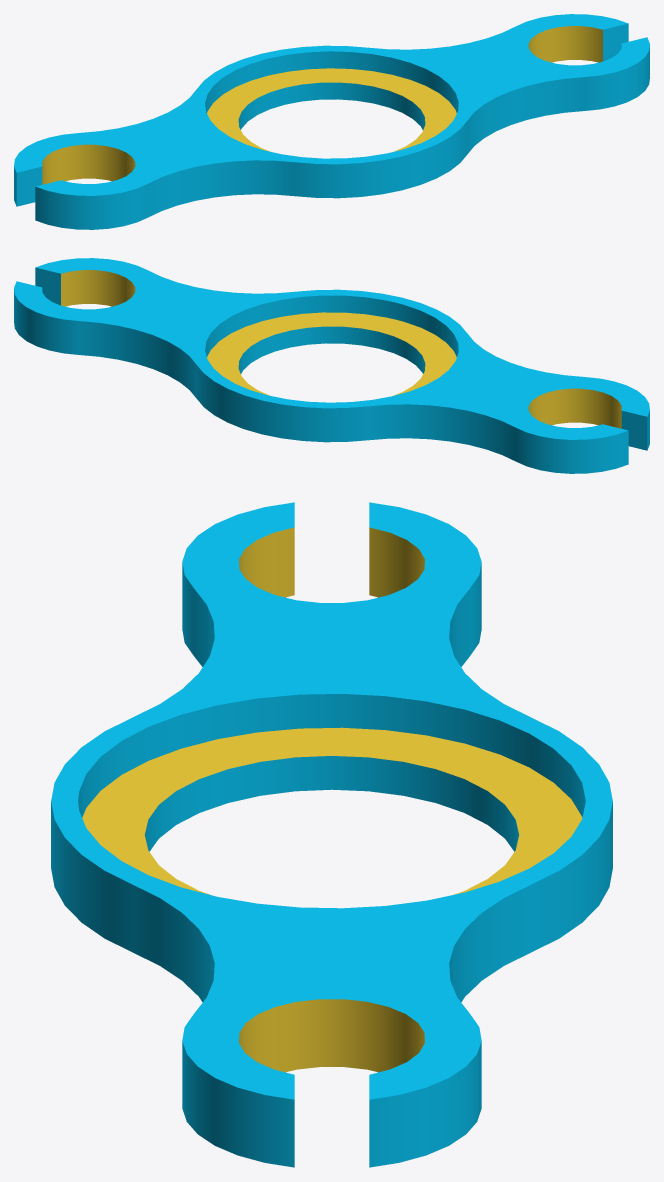
Rendered from SOLIDWORKS_200_EXERCISES_ex7.glb.
The picture shows the model from 3 angles, top to bottom: view 1: azimuth 30°, elevation 25°; view 2: azimuth 150°, elevation 25°; view 3: azimuth 270°, elevation 25°; orthographic projection. The views are drawn at different scales.
Parts seen in each view (by area): view 1: 3DGeom-23, 3DGeom-22; view 2: 3DGeom-23, 3DGeom-22; view 3: 3DGeom-23, 3DGeom-22.
Part boxes in pixels (left/top/right/bottom): 3DGeom-23: left=14, top=14, right=649, bottom=229; 3DGeom-22: left=42, top=26, right=602, bottom=184; 3DGeom-23: left=14, top=258, right=649, bottom=473; 3DGeom-22: left=61, top=270, right=621, bottom=428; 3DGeom-23: left=51, top=502, right=612, bottom=1167; 3DGeom-22: left=82, top=527, right=582, bottom=1072.
Size of the model in its own units: 0.3775 by 0.02 by 0.15.
